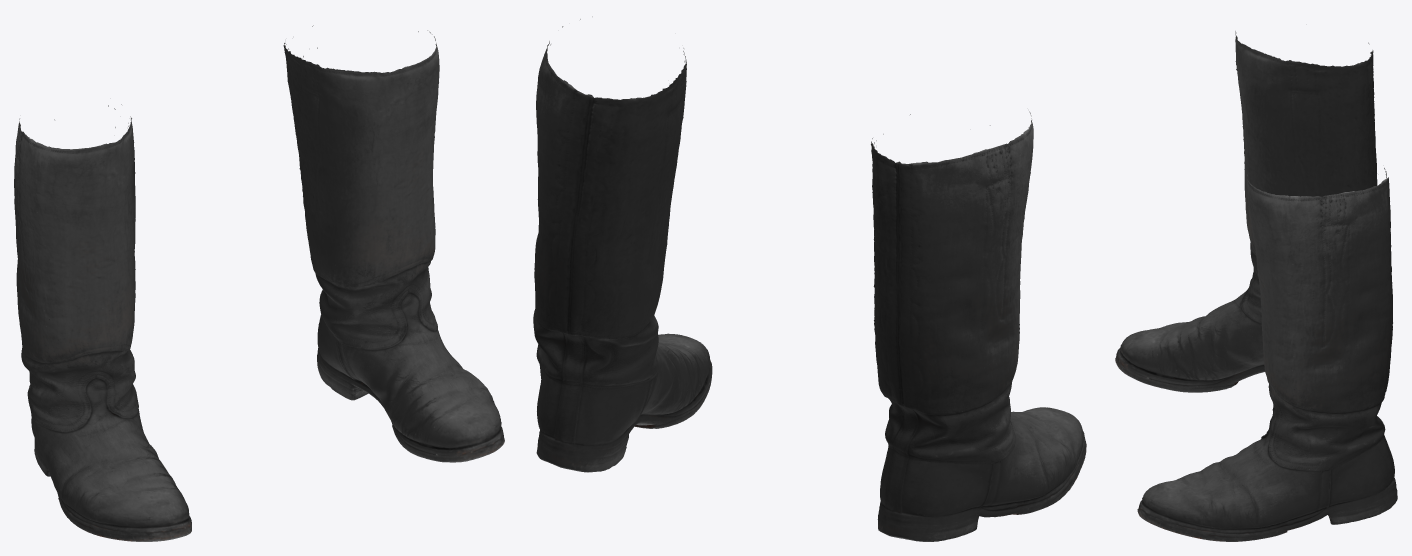
File: 19aa583e-8c75-4d48-b4f6-372685178f55-boty2.glb
3 views of the same model, side by side, from view 1: azimuth 30°, elevation 25°; view 2: azimuth 150°, elevation 25°; view 3: azimuth 270°, elevation 25° (orthographic). The views are drawn at different scales.
Visible parts, largest first — view 1: boty; view 2: boty; view 3: boty.
Part boxes in pixels (x1,y1,x2,y2): boty: (14,25,504,541); boty: (533,16,1086,541); boty: (1115,31,1397,541).
Bounding box in the file's own units: 0.4759 × 0.3949 × 0.292.
1 material, 1 textured.
